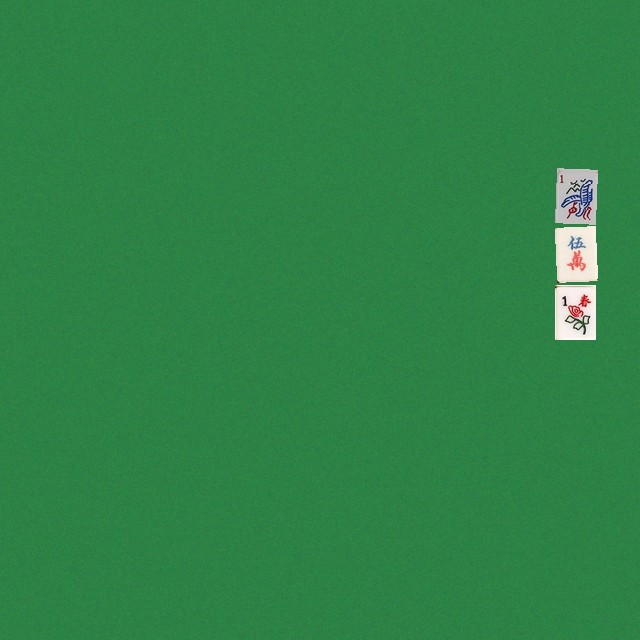tile: (554, 168, 595, 223), (554, 226, 595, 281), (554, 284, 595, 339)
